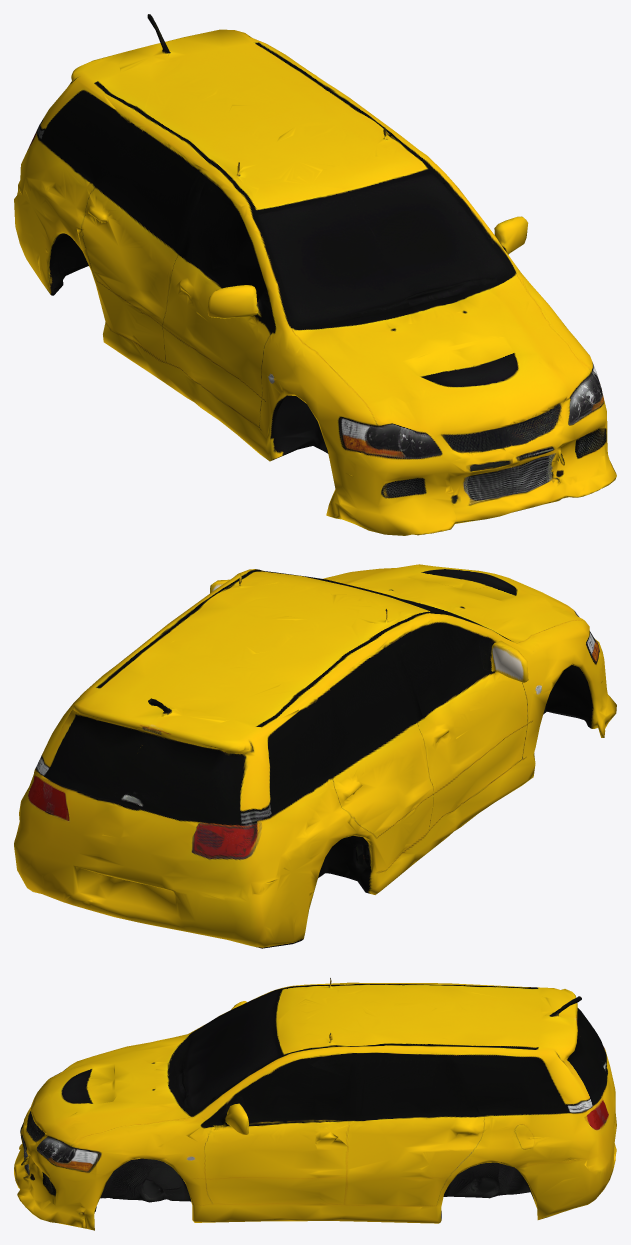
Rendered from yatsuhashi_resolution_wagon_05.obj.
3 renders of one model, top to bottom at view 1: azimuth 30°, elevation 25°; view 2: azimuth 150°, elevation 25°; view 3: azimuth 270°, elevation 25°, orthographic. The views are drawn at different scales.
Visible parts, largest first — view 1: body; view 2: body; view 3: body.
Boxes of the visible parts, x1=… form: body: x1=14, y1=14, x2=616, y2=535; body: x1=14, y1=564, x2=616, y2=948; body: x1=14, y1=978, x2=616, y2=1230.
Size of the model in its own units: 1.8 by 1.28 by 3.85.
